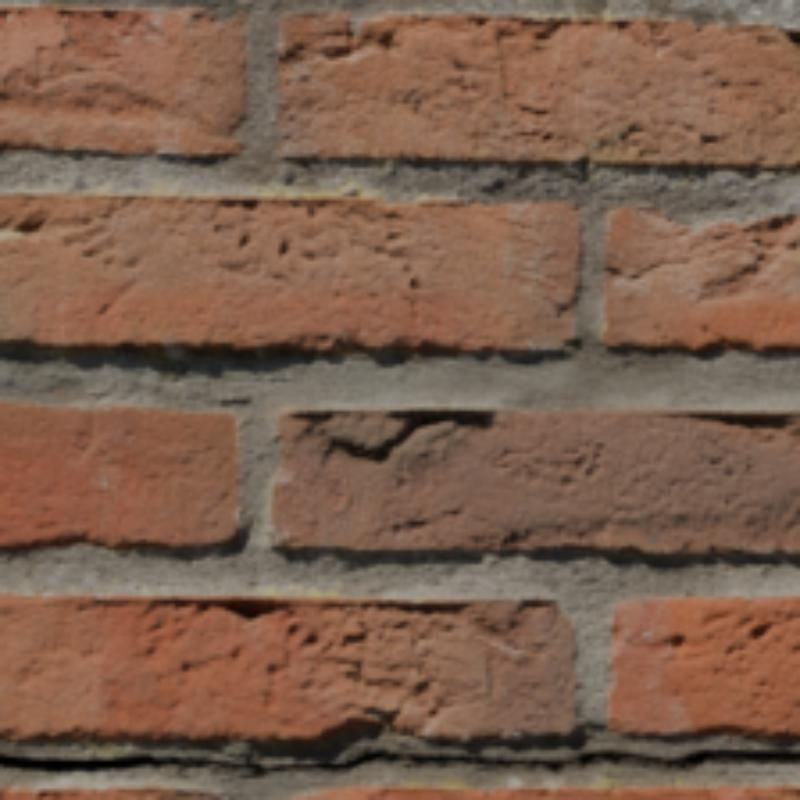pothole: (0, 750, 796, 775)
